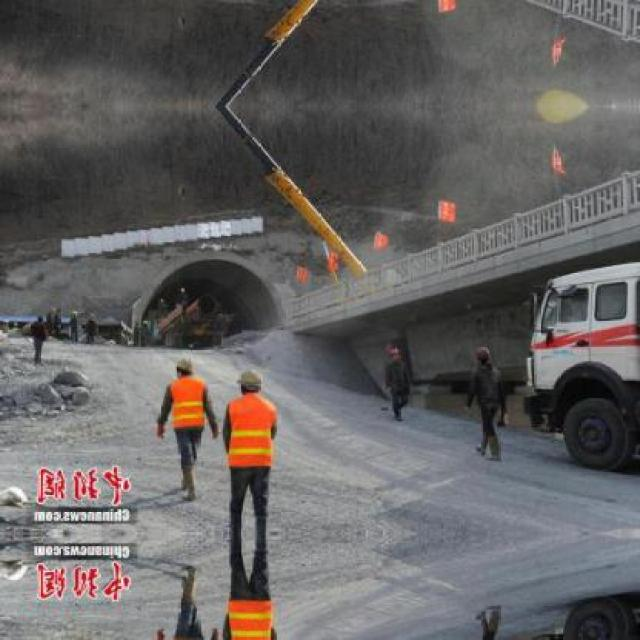Reflective-Jacket: (222, 394, 282, 474), (165, 376, 212, 436)
Safety-Helmet: (232, 366, 270, 396), (171, 355, 200, 376)
